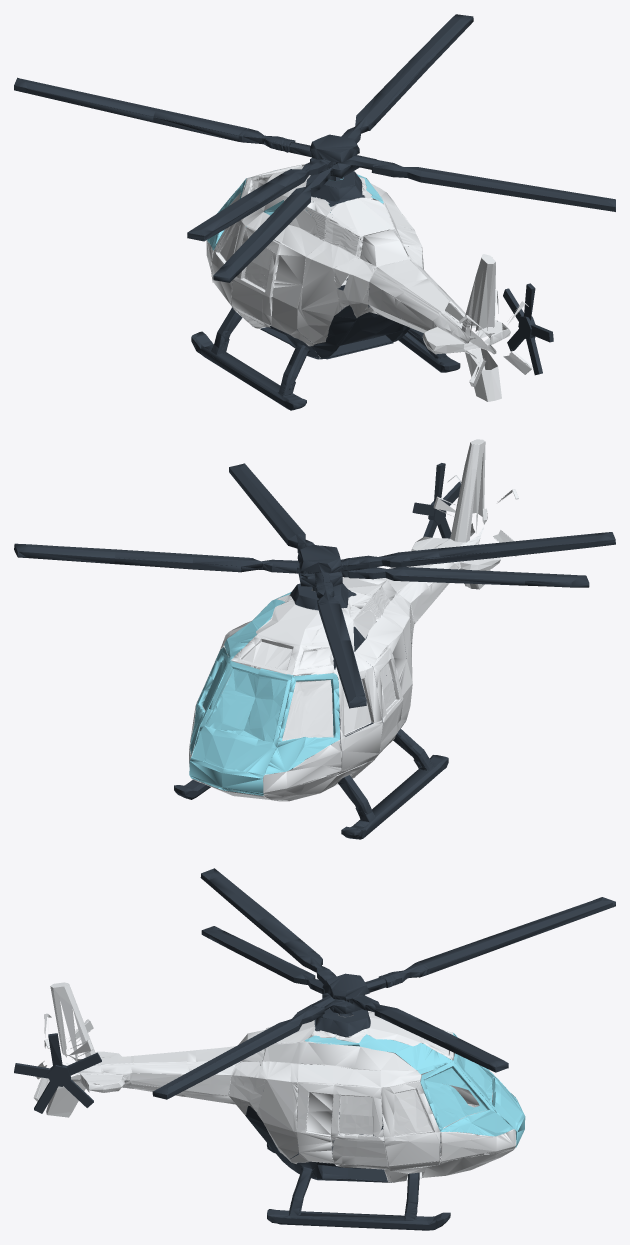
File: helicopter_drop_tripo_20260826.glb
The picture shows the model from 3 angles, top to bottom: view 1: azimuth 30°, elevation 25°; view 2: azimuth 150°, elevation 25°; view 3: azimuth 270°, elevation 25°; orthographic projection. The views are drawn at different scales.
Visible parts, largest first — view 1: BodyPaint, MainRotor, Skids, TailRotor, Windows; view 2: BodyPaint, MainRotor, Windows, Skids, TailRotor; view 3: BodyPaint, MainRotor, Windows, Skids, TailRotor.
Boxes of the visible parts, x1=… form: BodyPaint: x1=206, y1=163, x2=532, y2=401; MainRotor: x1=14, y1=14, x2=615, y2=282; Skids: x1=191, y1=278, x2=460, y2=410; TailRotor: x1=503, y1=283, x2=553, y2=375; Windows: x1=207, y1=174, x2=383, y2=250; BodyPaint: x1=189, y1=439, x2=518, y2=801; MainRotor: x1=14, y1=463, x2=615, y2=708; Windows: x1=189, y1=592, x2=339, y2=795; Skids: x1=174, y1=626, x2=448, y2=839; TailRotor: x1=412, y1=463, x2=461, y2=538; BodyPaint: x1=33, y1=982, x2=516, y2=1182; MainRotor: x1=152, y1=868, x2=615, y2=1099; Windows: x1=305, y1=1033, x2=525, y2=1147; Skids: x1=245, y1=1106, x2=450, y2=1230; TailRotor: x1=14, y1=1033, x2=101, y2=1113.
Size of the model in its own units: 7.93 by 4.17 by 10.14.
